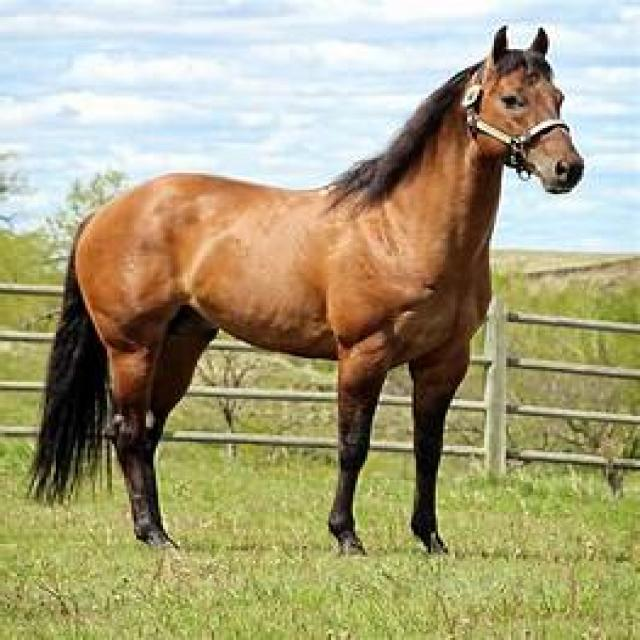animal: (68, 27, 574, 551)
